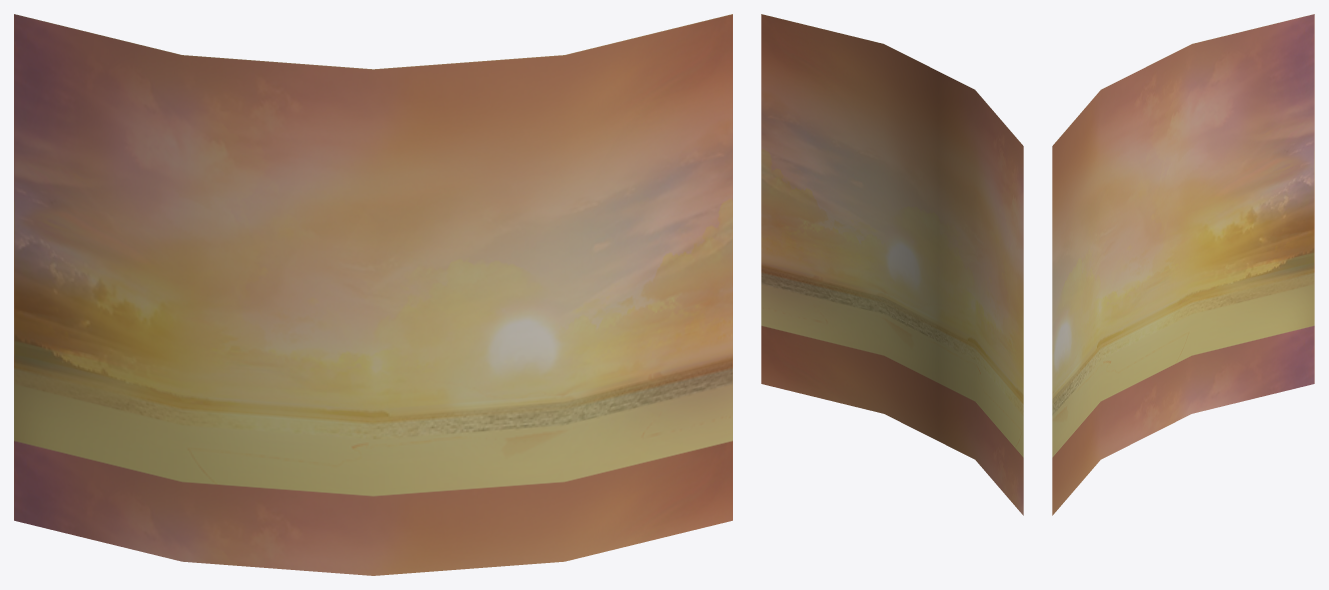
File: skyplane.FBX
3 renders of one model, left to right at view 1: azimuth 30°, elevation 25°; view 2: azimuth 150°, elevation 25°; view 3: azimuth 270°, elevation 25°, orthographic. The views are drawn at different scales.
Visible parts, largest first — view 1: skyplane; view 2: skyplane; view 3: skyplane.
Boxes of the visible parts, x1,y1,x2,y2 form: skyplane: [14, 14, 732, 575]; skyplane: [761, 14, 1023, 515]; skyplane: [1052, 14, 1314, 515].
Bounding box in the file's own units: 223 × 200 × 129.
1 material, 1 textured.
